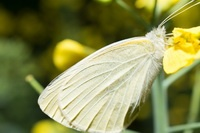insect: (38, 0, 199, 131)
